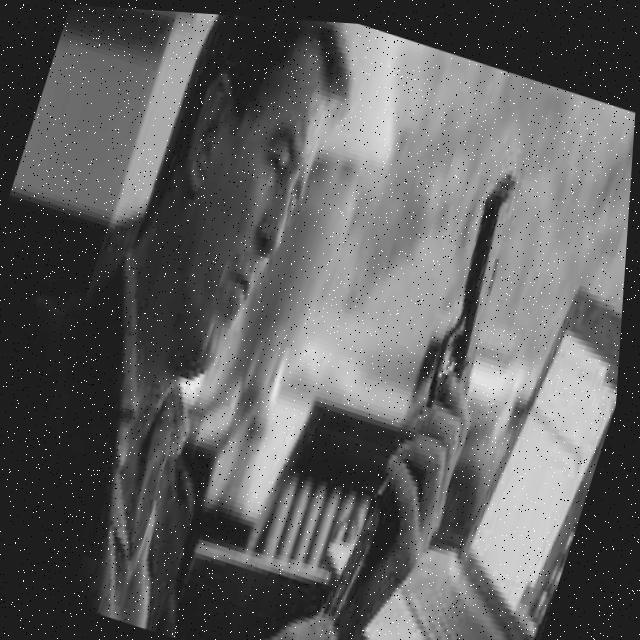pistol: (422, 153, 543, 418)
